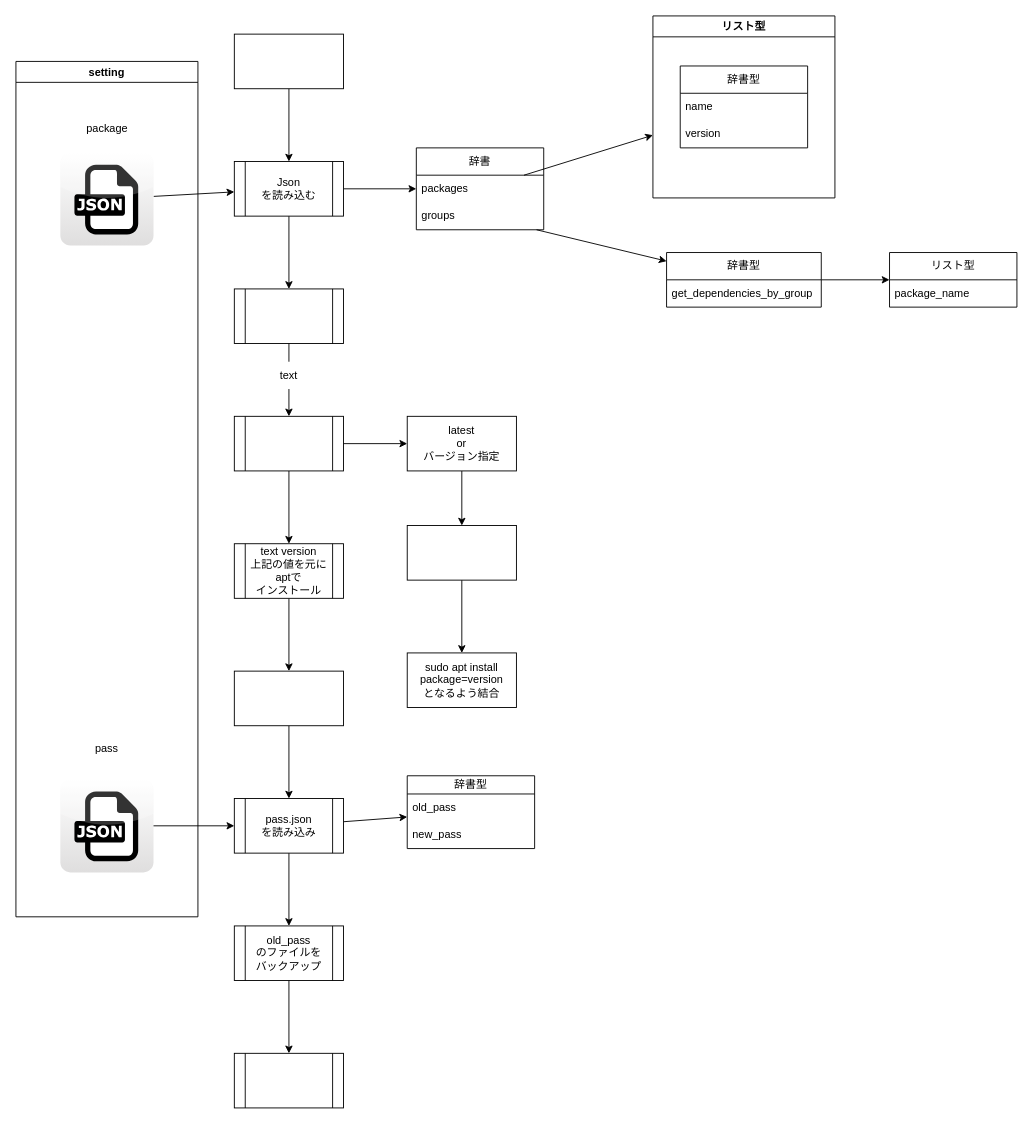
The diagram is 1033 pixels wide and 1124 high, and some of its shapes have lost their labels. The shapes that lost their labels are listed below. From the top down, each one's centre as x and y in pixels, then its label:
(x=288, y=61): install.py
(x=288, y=316): groupの中の 辞書型の中の リストを繰り返す
(x=288, y=443): textを元に packagesの 名前のバージョンを取得
(x=461, y=552): latestの時は何も versionが指定されているとき
(x=288, y=698): 設定ファイルへの シンボリックリンクを作成する
(x=288, y=1080): new_passへの シンボリック を作成
